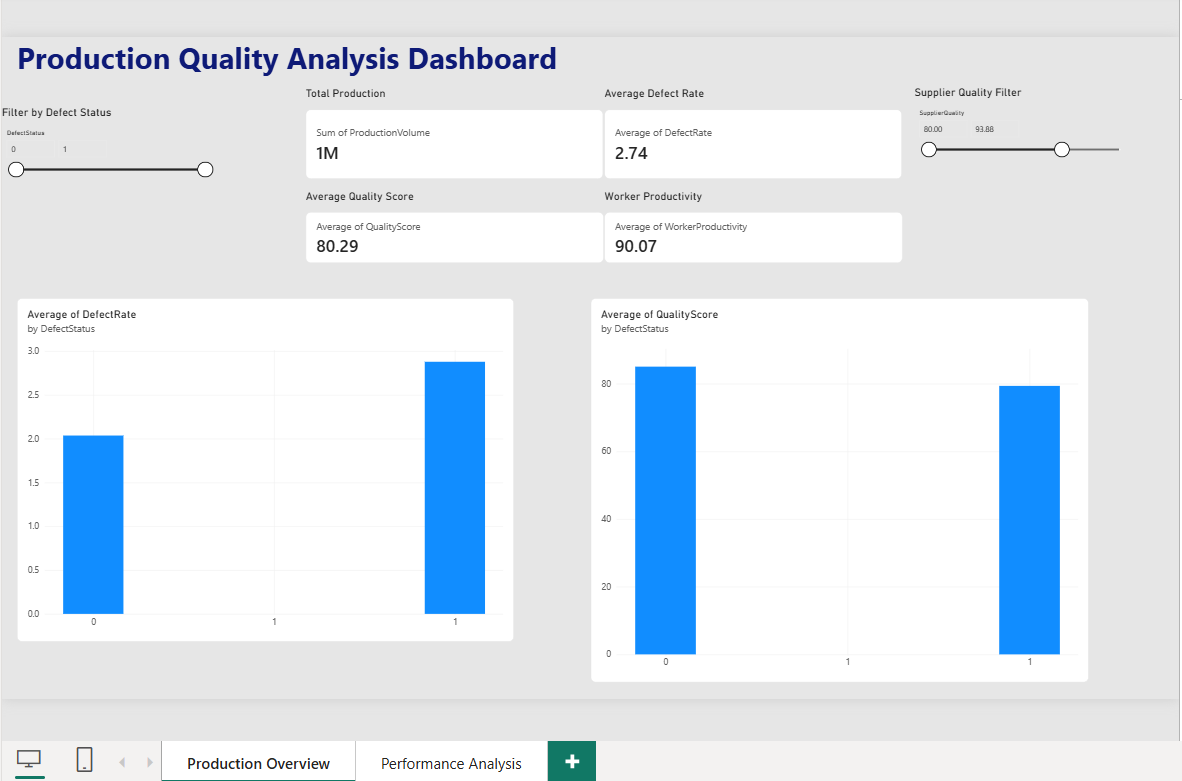

This screenshot's page, from the dashboard's own definition file:
{"tool":"powerbi","page":{"name":"Production Overview","canvas":[1920,1080],"ordinal":0},"visuals":[{"type":"cardVisual","title":"Total Production","fields":{"Data":["Sum(manufacturing_defect_dataset.ProductionVolume)"]},"box":[496,82,485.8,150.3],"z":0},{"type":"cardVisual","title":"Average Defect Rate","fields":{"Data":["Avg(manufacturing_defect_dataset.DefectRate)"]},"box":[982,82,485.8,150.3],"z":1000},{"type":"cardVisual","title":"Average Quality Score","fields":{"Data":["Avg(manufacturing_defect_dataset.QualityScore)"]},"box":[496,248,486,120],"z":2000},{"type":"cardVisual","title":"Worker Productivity","fields":{"Data":["Avg(manufacturing_defect_dataset.WorkerProductivity)"]},"box":[982,248,486,120],"z":3000},{"type":"clusteredColumnChart","fields":{"Category":["manufacturing_defect_dataset.DefectStatus"],"Y":["Avg(manufacturing_defect_dataset.DefectRate)"]},"box":[24,426,810,560],"z":4000},{"type":"clusteredColumnChart","fields":{"Category":["manufacturing_defect_dataset.DefectStatus"],"Y":["Avg(manufacturing_defect_dataset.QualityScore)"]},"box":[960,426,812,626],"z":5000},{"type":"textbox","box":[24,0,1062,80],"z":6000},{"type":"slicer","title":"Filter by Defect Status","fields":{"Values":["manufacturing_defect_dataset.DefectStatus"]},"box":[0,112,348,150],"z":7000},{"type":"slicer","title":"Supplier Quality Filter","fields":{"Values":["manufacturing_defect_dataset.SupplierQuality"]},"box":[1488,80,352,150],"z":8000}]}

Visuals, with their boxes on the page's 1920x1080 design canvas (x1, y1, x2, y2). These are canvas units, not pixel positions in the 1182x781 screenshot, which may show the page scaled, cropped or inside an application window:
"Total Production" cardVisual: {"left": 496, "top": 82, "right": 982, "bottom": 232}
"Average Defect Rate" cardVisual: {"left": 982, "top": 82, "right": 1468, "bottom": 232}
"Average Quality Score" cardVisual: {"left": 496, "top": 248, "right": 982, "bottom": 368}
"Worker Productivity" cardVisual: {"left": 982, "top": 248, "right": 1468, "bottom": 368}
clusteredColumnChart - manufacturing_defect_dataset.DefectStatus x Avg(manufacturing_defect_dataset.DefectRate): {"left": 24, "top": 426, "right": 834, "bottom": 986}
clusteredColumnChart - manufacturing_defect_dataset.DefectStatus x Avg(manufacturing_defect_dataset.QualityScore): {"left": 960, "top": 426, "right": 1772, "bottom": 1052}
textbox: {"left": 24, "top": 0, "right": 1086, "bottom": 80}
"Filter by Defect Status" slicer: {"left": 0, "top": 112, "right": 348, "bottom": 262}
"Supplier Quality Filter" slicer: {"left": 1488, "top": 80, "right": 1840, "bottom": 230}
